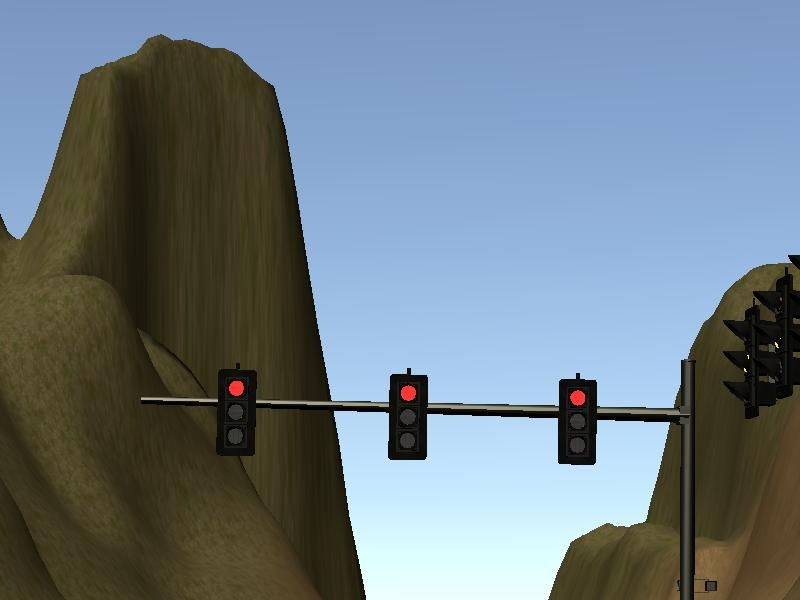traffic_light_red: (195, 362, 677, 466)
